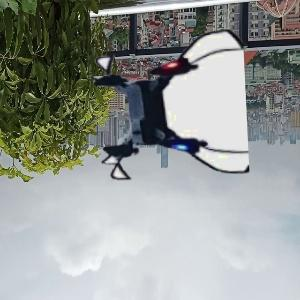drone: (89, 31, 248, 190)
